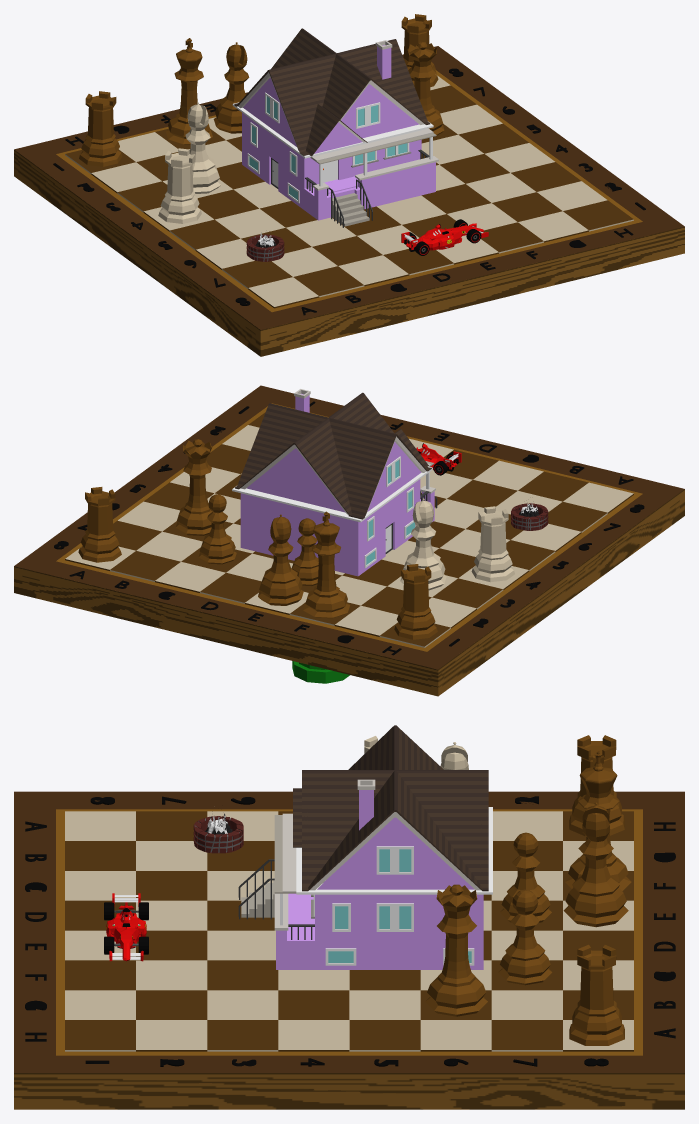
3 views of the same model, one above another, from view 1: azimuth 30°, elevation 25°; view 2: azimuth 150°, elevation 25°; view 3: azimuth 270°, elevation 25° (orthographic). The views are drawn at different scales.
Parts seen in each view (by area): view 1: Cube.002, Cube.391, VEHICLES_FORMULA_1, OBJRANDOM_CAMPFIRE; view 2: Cube.002, Cube.391, OBJRANDOM_CAMPFIRE, UNDERGROUND_PIPES, VEHICLES_FORMULA_1; view 3: Cube.002, Cube.391, VEHICLES_FORMULA_1, OBJRANDOM_CAMPFIRE.
Boxes of the visible parts, bbox=[...] form: Cube.002: bbox=[14, 14, 684, 356]; Cube.391: bbox=[232, 28, 438, 227]; VEHICLES_FORMULA_1: bbox=[401, 219, 488, 255]; OBJRANDOM_CAMPFIRE: bbox=[246, 232, 284, 261]; Cube.002: bbox=[14, 385, 684, 696]; Cube.391: bbox=[232, 389, 437, 576]; OBJRANDOM_CAMPFIRE: bbox=[511, 502, 548, 530]; UNDERGROUND_PIPES: bbox=[292, 661, 349, 683]; VEHICLES_FORMULA_1: bbox=[416, 443, 461, 475]; Cube.002: bbox=[14, 735, 684, 1109]; Cube.391: bbox=[238, 725, 492, 969]; VEHICLES_FORMULA_1: bbox=[104, 893, 148, 961]; OBJRANDOM_CAMPFIRE: bbox=[193, 811, 243, 853].
Bounding box in the file's own units: 3981 × 2068 × 4012.
Materials: 33 (2 with a texture image).
